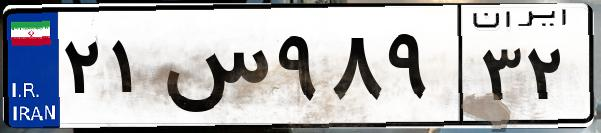1: (110, 28, 158, 98)
2: (57, 26, 110, 100), (525, 38, 570, 115)
3: (475, 38, 525, 113)
8: (330, 28, 385, 110)
9: (270, 28, 330, 110), (385, 28, 445, 110)
س: (158, 20, 270, 120)
